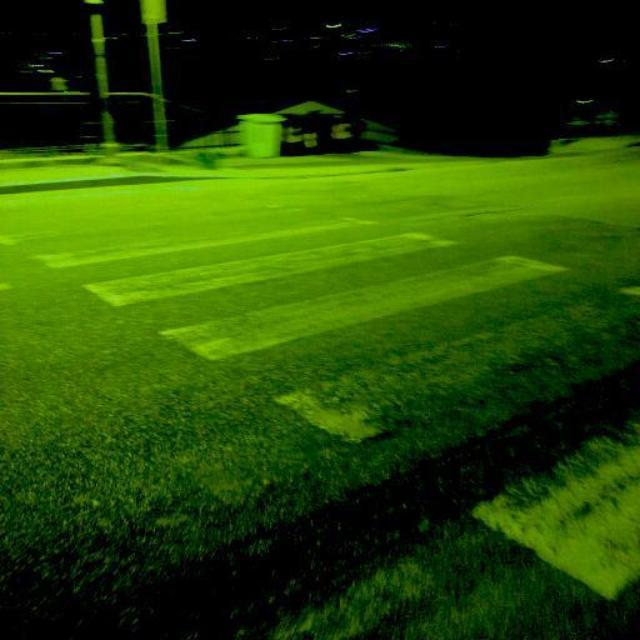sidewalk: (0, 182, 640, 602)
